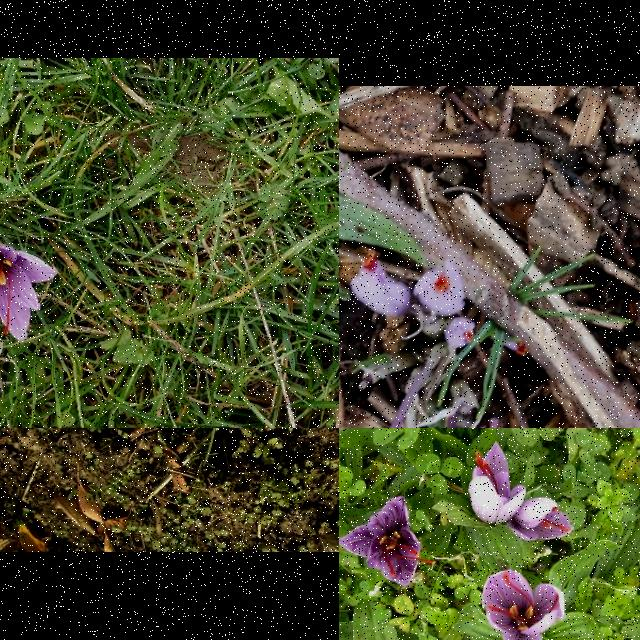flower: (339, 495, 435, 586), (0, 240, 59, 342), (482, 571, 565, 640), (468, 443, 526, 525), (350, 249, 412, 317), (414, 261, 466, 317), (510, 497, 574, 541), (444, 316, 476, 349), (504, 339, 530, 355)
